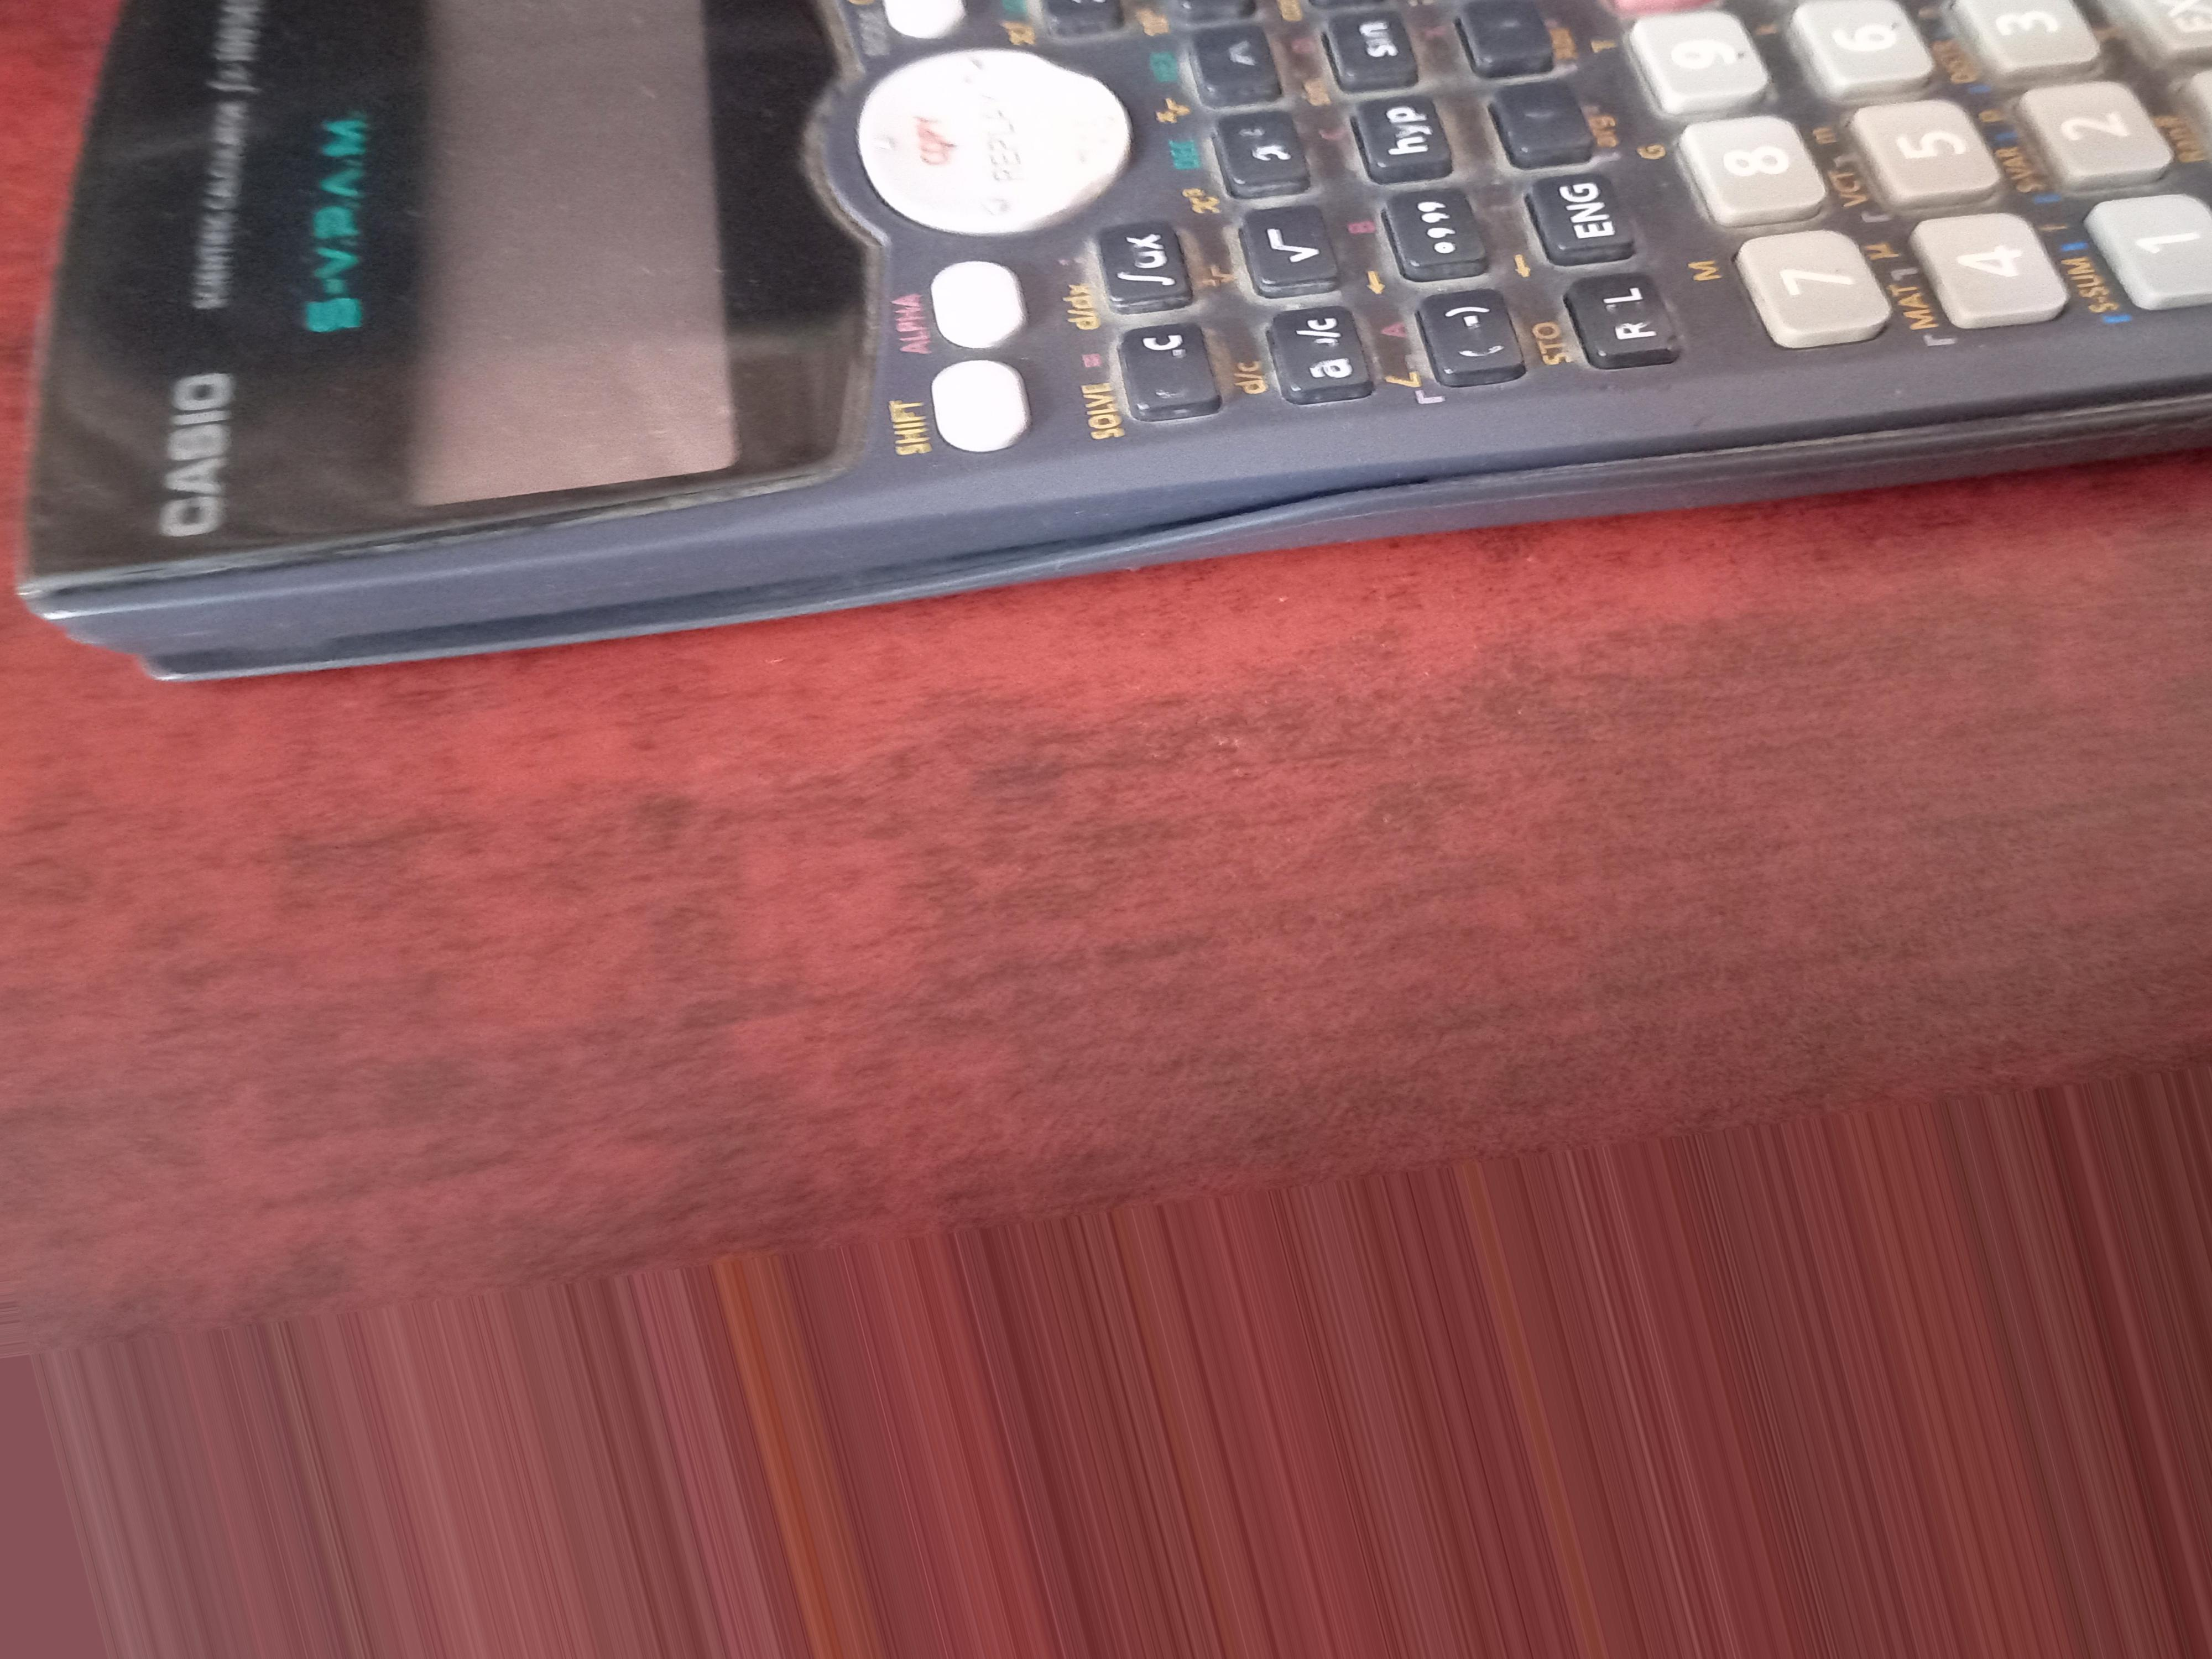calculator: (0, 0, 2212, 521)
